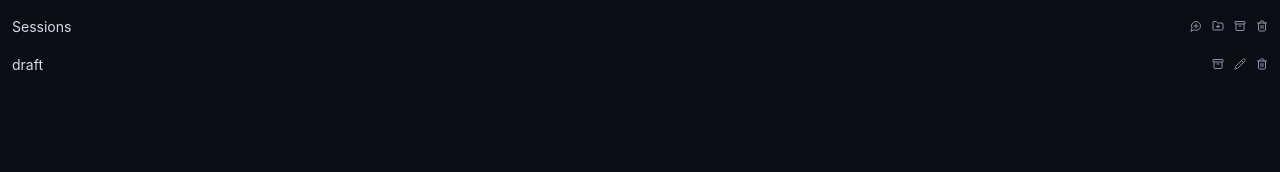
Scenario: <FolderTree> › keeps the right-click context menu on a chat row
Step 1. Right-click the list item "draft" → (28, 64), box [0,48,1279,81]
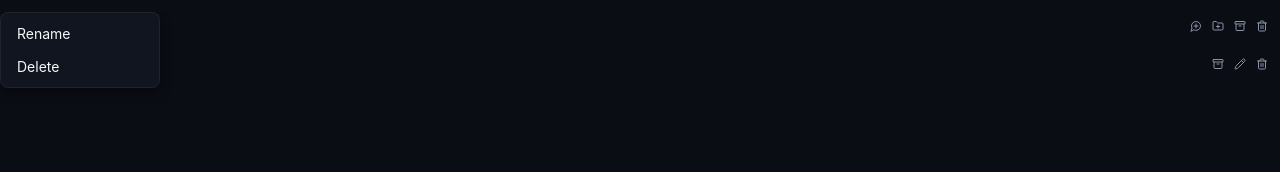
Expected: the button with test id "ctx-rename" is shown, [5,17,155,50]
Expected: the button with test id "ctx-delete" is shown, [5,50,155,83]
